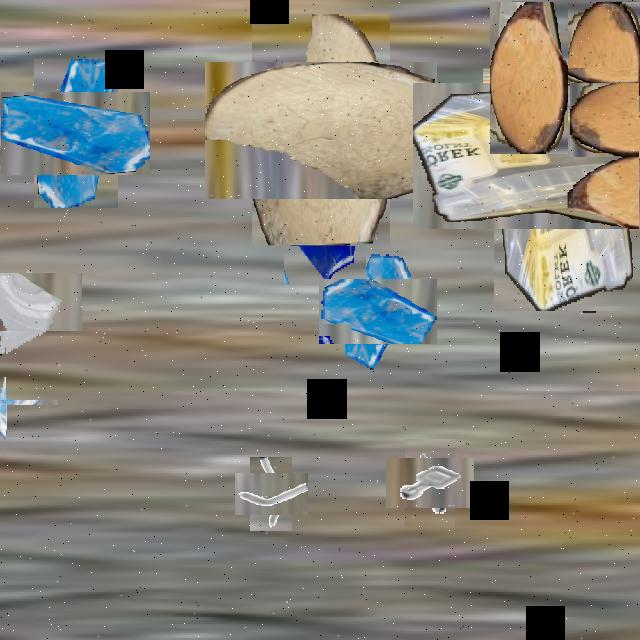glass: (18, 75, 134, 192), (284, 138, 366, 284), (332, 265, 424, 357), (0, 260, 70, 343), (0, 373, 32, 431)
metal: (395, 449, 465, 518), (242, 465, 300, 523), (638, 2, 640, 112)
plastic: (453, 42, 640, 270)
wood: (228, 38, 414, 222), (515, 35, 640, 193), (490, 2, 568, 154)
